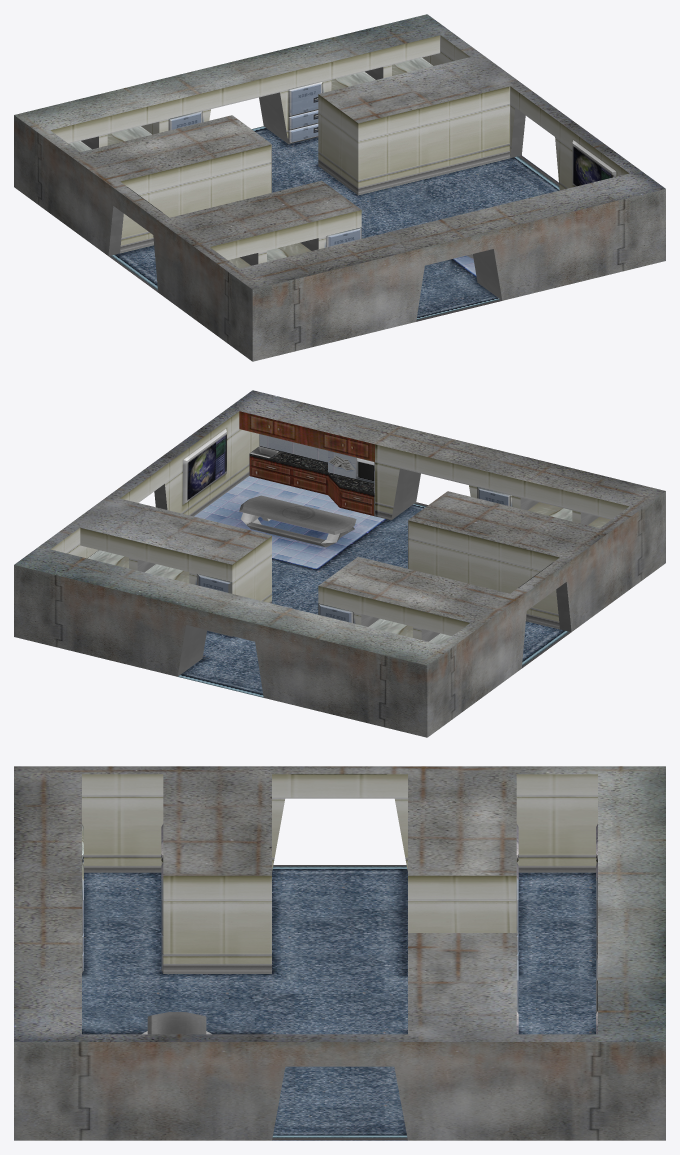
The model's file is _LEGACY_Barracks.FBX.
The picture shows the model from 3 angles, top to bottom: view 1: azimuth 30°, elevation 25°; view 2: azimuth 150°, elevation 25°; view 3: azimuth 270°, elevation 25°; orthographic projection. The views are drawn at different scales.
Visible parts, largest first — view 1: objbarrack; view 2: objbarrack, objtable; view 3: objbarrack, objtable.
Part boxes in pixels (x1=…): objbarrack: x1=14, y1=14, x2=665, y2=361; objbarrack: x1=14, y1=390, x2=665, y2=737; objtable: x1=239, y1=495, x2=356, y2=547; objbarrack: x1=14, y1=766, x2=665, y2=1140; objtable: x1=142, y1=1012, x2=211, y2=1034.
Bounding box in the file's own units: 2487 × 414 × 2487.
2 materials, 2 textured.
